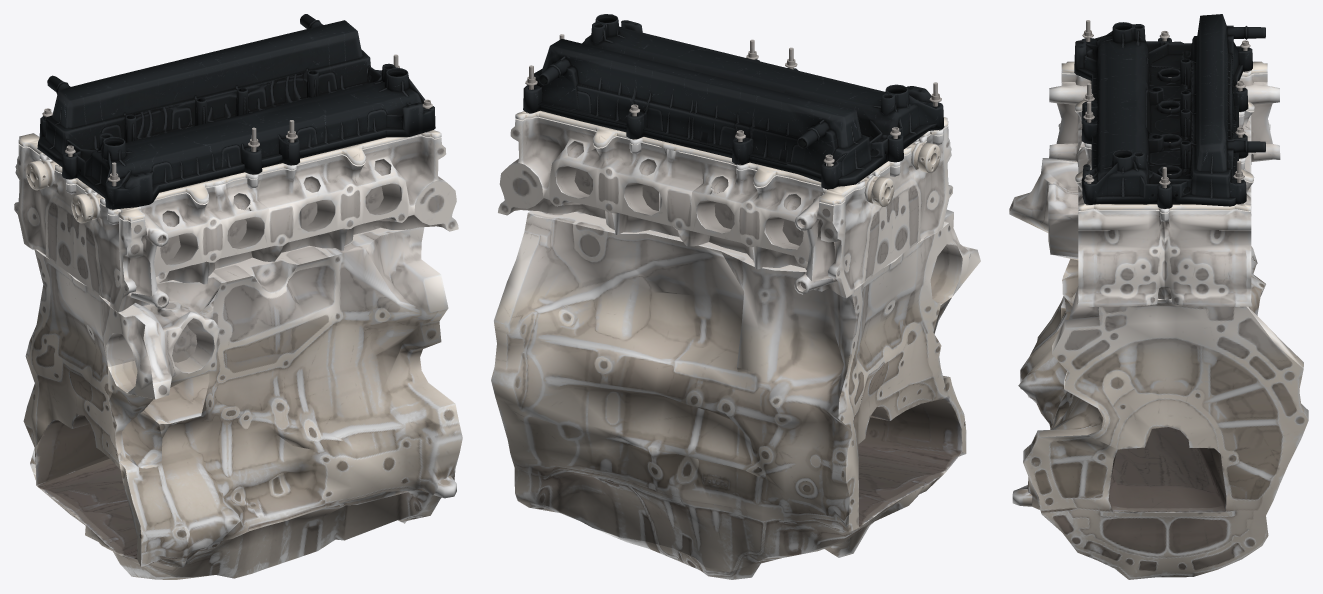
File: engine_v01.fbx
3 renders of one model, left to right at view 1: azimuth 30°, elevation 25°; view 2: azimuth 150°, elevation 25°; view 3: azimuth 270°, elevation 25°, orthographic. The views are drawn at different scales.
Parts seen in each view (by area): view 1: base, rockerCover, baseBearing Cap, bearingCap, camshaft2, camshaft1; view 2: base, baseBearing Cap, rockerCover, bearingCap, protectorCamshaft, camshaft1, camshaft2; view 3: base, rockerCover, baseBearing Cap, bearingCap.
Boxes of the visible parts, box(x1,y1,x2,y2) form: base: box(23, 227, 462, 579); rockerCover: box(37, 14, 435, 209); baseBearing Cap: box(14, 135, 458, 312); bearingCap: box(18, 130, 441, 221); camshaft2: box(26, 159, 59, 190); camshaft1: box(71, 192, 104, 223); base: box(491, 209, 980, 579); baseBearing Cap: box(498, 116, 952, 298); rockerCover: box(523, 14, 944, 188); bearingCap: box(515, 110, 948, 205); protectorCamshaft: box(538, 101, 788, 164); camshaft1: box(907, 141, 940, 173); camshaft2: box(860, 175, 894, 206); base: box(1009, 158, 1308, 579); rockerCover: box(1074, 14, 1265, 208); baseBearing Cap: box(1049, 71, 1280, 306); bearingCap: box(1061, 61, 1267, 213).
Bounding box in the file's own units: 0.4427 × 0.5751 × 0.3491.
